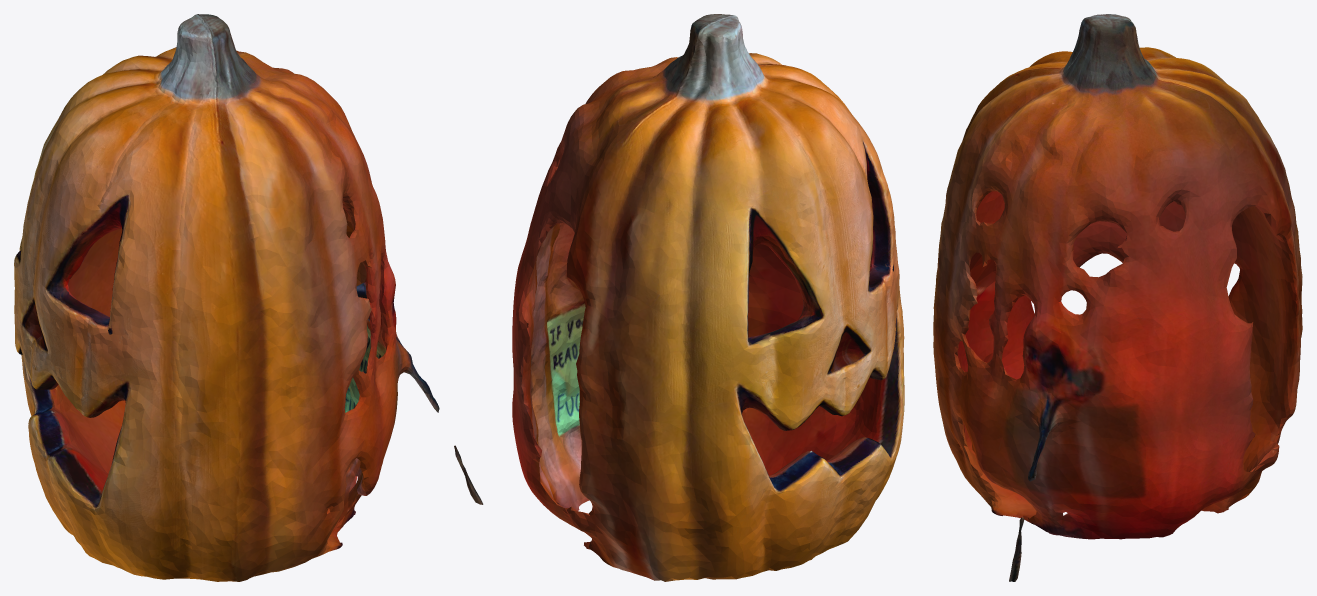
File: Pumpkin “with Easter Egg note” 😂🖕.glb
The picture shows the model from 3 angles, left to right: view 1: azimuth 30°, elevation 25°; view 2: azimuth 150°, elevation 25°; view 3: azimuth 270°, elevation 25°; orthographic projection. The views are drawn at different scales.
Bounding box in the file's own units: 0.314 × 0.3885 × 0.2814.
1 material, 1 textured.
